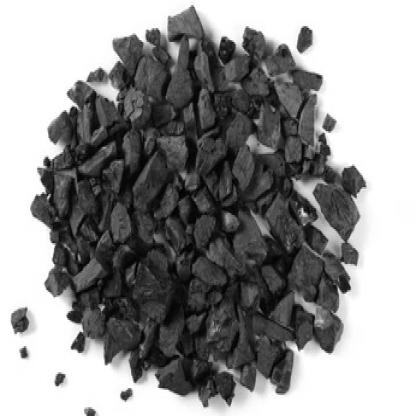Sedimentary_coal: (310, 175, 363, 239), (165, 31, 202, 112), (231, 225, 282, 266), (156, 124, 191, 178), (273, 72, 304, 119), (195, 84, 225, 129), (106, 198, 136, 241), (265, 283, 292, 320)
